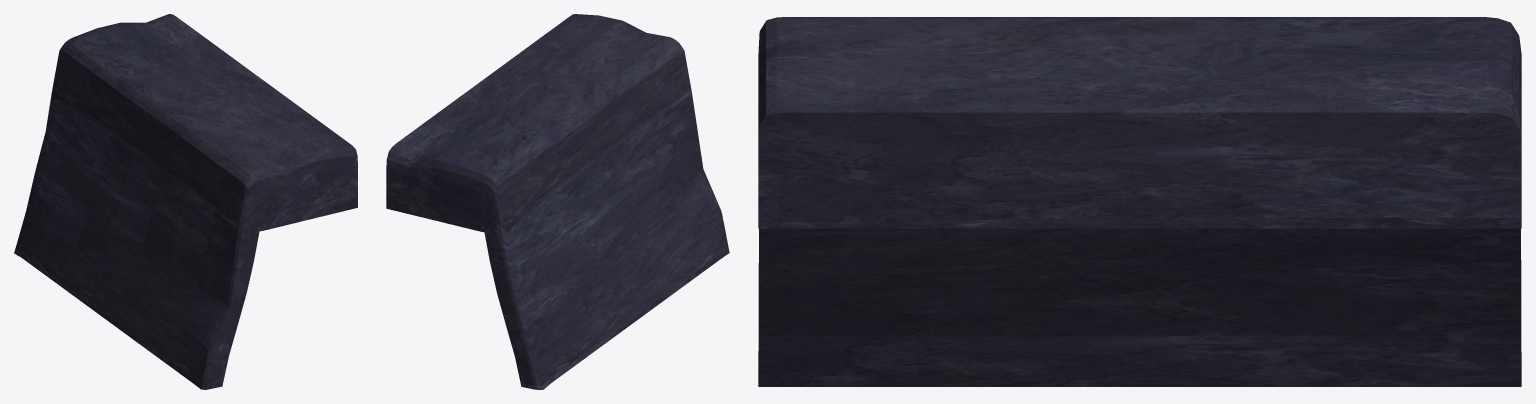
Rendered from CaveS1.fbx.
The picture shows the model from 3 angles, left to right: view 1: azimuth 30°, elevation 25°; view 2: azimuth 150°, elevation 25°; view 3: azimuth 270°, elevation 25°; orthographic projection. The views are drawn at different scales.
Visible parts, largest first — view 1: S1; view 2: S1; view 3: S1.
Boxes of the visible parts, x1,y1,x2,y2 form: S1: (14, 14, 357, 389); S1: (386, 14, 729, 389); S1: (758, 17, 1521, 386).
Bounding box in the file's own units: 557 × 717 × 1192.
